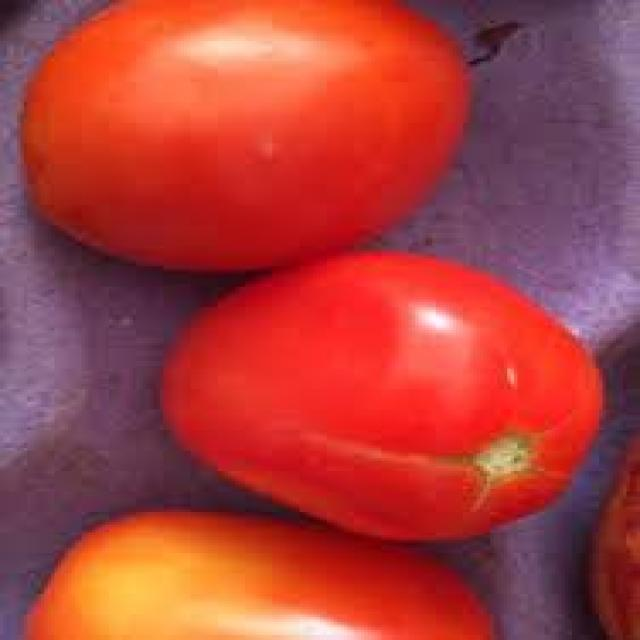Fresh_tomato: (169, 234, 592, 521), (32, 2, 466, 238), (49, 503, 497, 640)
